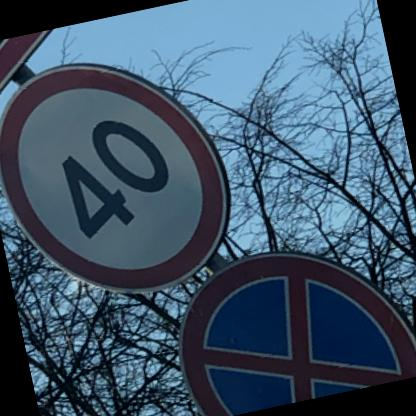speedlimit: (0, 35, 245, 317)
